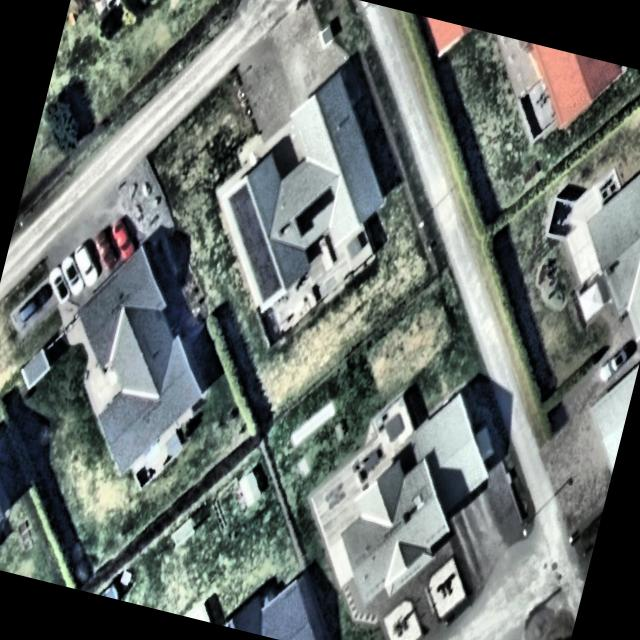roof_pv: (236, 214, 296, 306), (213, 175, 263, 256), (291, 179, 340, 243)
